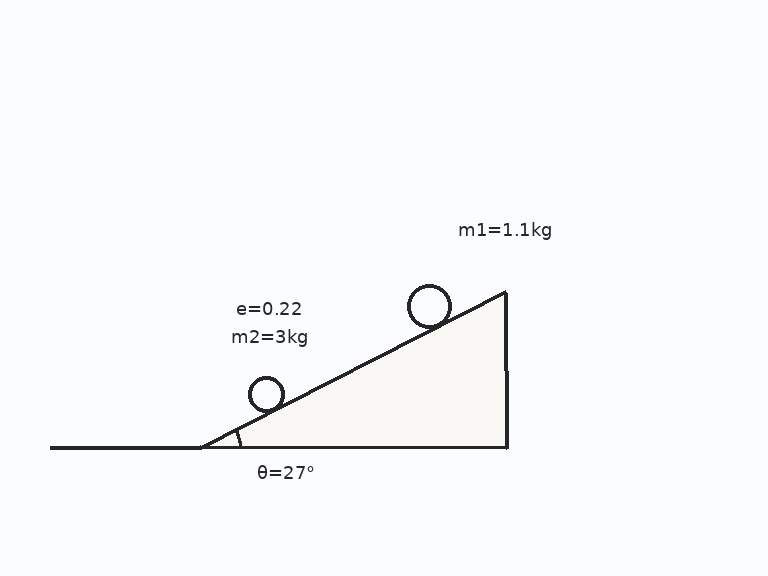ball: (405, 282, 453, 330), (246, 374, 286, 414)
ramp: (198, 290, 508, 450)
